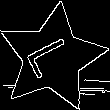L_NE: (23, 33, 82, 83)
